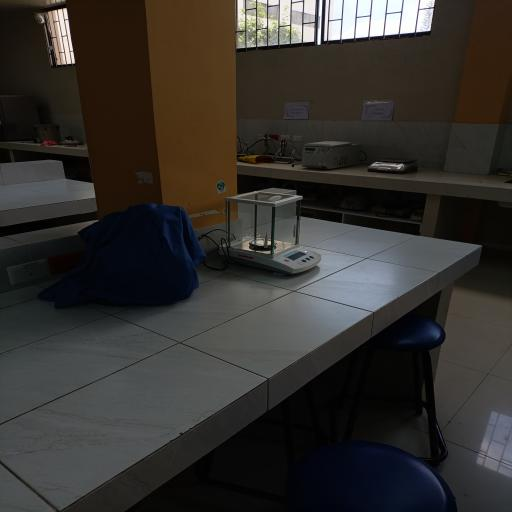Balanza_Analitica_Ohaus: (215, 186, 334, 280)
